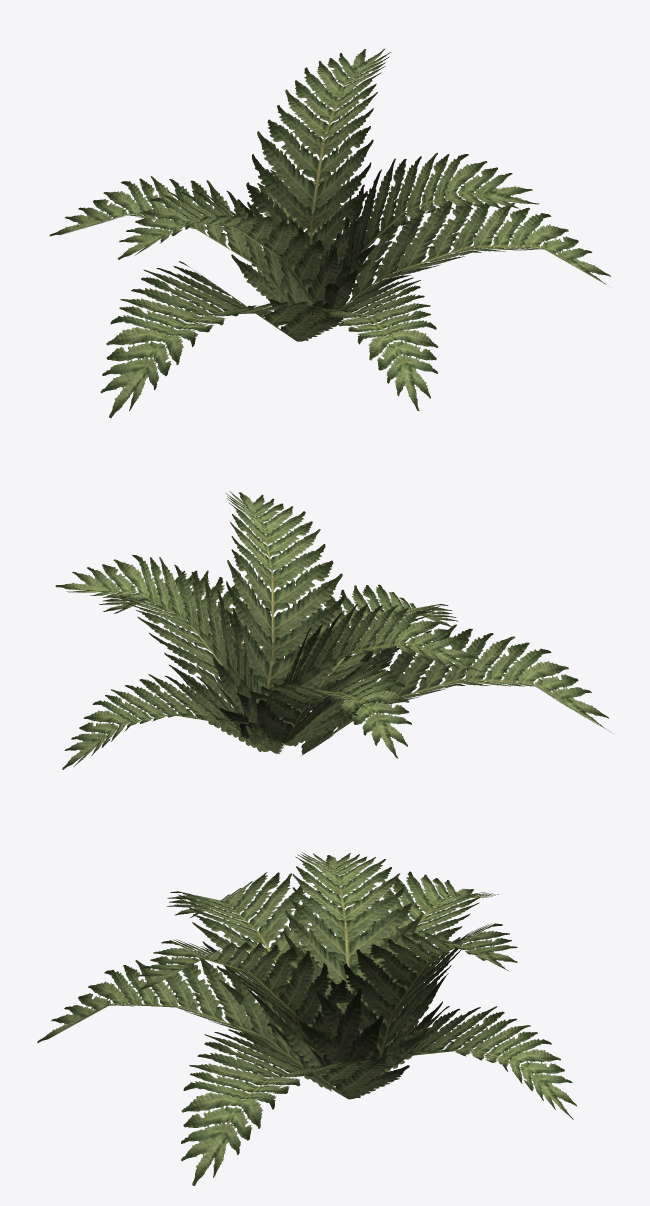
Rendered from fern_a_1.FBX.
The picture shows the model from 3 angles, top to bottom: view 1: azimuth 30°, elevation 25°; view 2: azimuth 150°, elevation 25°; view 3: azimuth 270°, elevation 25°; orthographic projection. The views are drawn at different scales.
Visible parts, largest first — view 1: fern; view 2: fern; view 3: fern.
Part boxes in pixels (left/top/right/bottom): fern: left=49, top=49, right=610, bottom=418; fern: left=55, top=491, right=613, bottom=769; fern: left=37, top=852, right=576, bottom=1185.
Size of the model in its own units: 45.95 by 17.92 by 37.43.
1 material, 1 textured.
